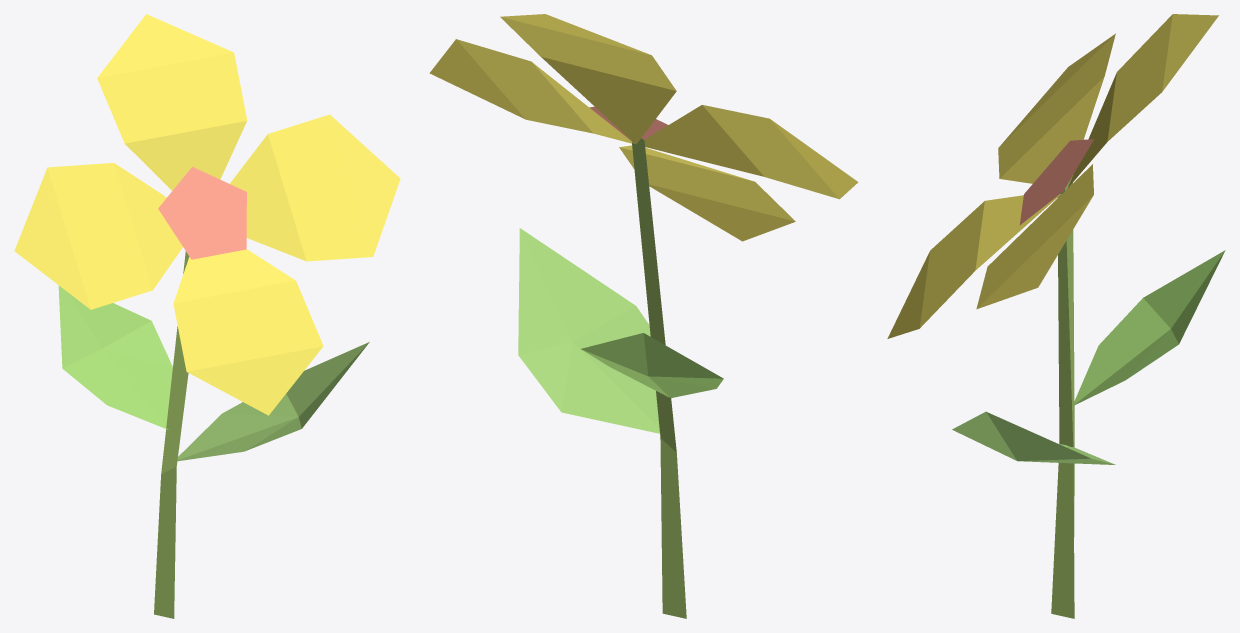
File: Flower_d_OneS_08.fbx
The picture shows the model from 3 angles, left to right: view 1: azimuth 30°, elevation 25°; view 2: azimuth 150°, elevation 25°; view 3: azimuth 270°, elevation 25°; orthographic projection. The views are drawn at different scales.
Visible parts, largest first — view 1: Flower_d_OneS_08; view 2: Flower_d_OneS_08; view 3: Flower_d_OneS_08.
Part boxes in pixels (box(x1,y1,x2,y2)): Flower_d_OneS_08: box(14, 14, 400, 618); Flower_d_OneS_08: box(429, 14, 858, 618); Flower_d_OneS_08: box(887, 14, 1225, 618).
Bounding box in the file's own units: 0.2563 × 0.3546 × 0.1745.
